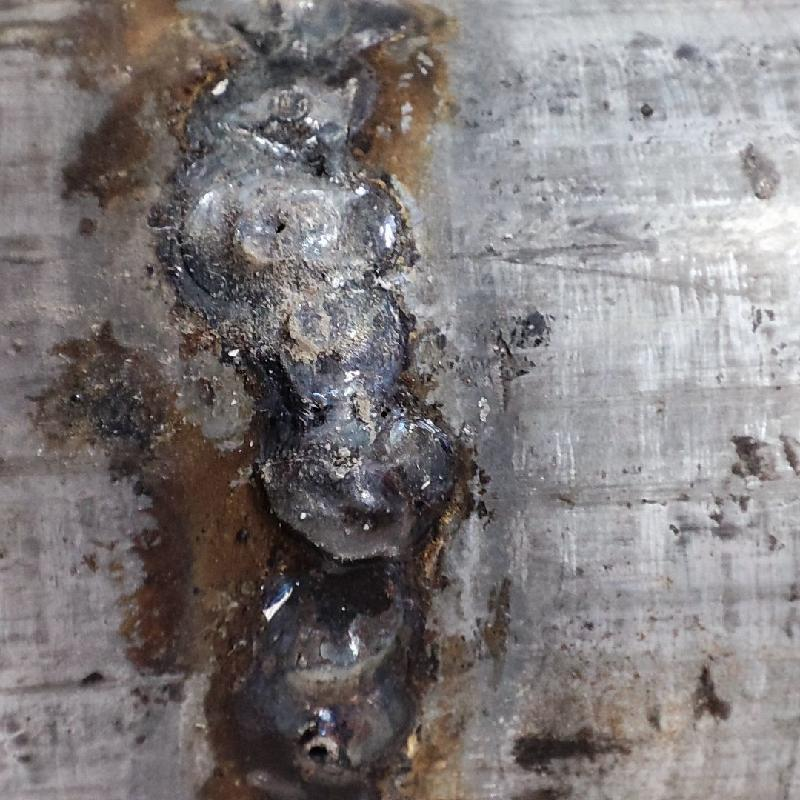Not_fully_soldered: (187, 3, 406, 416)
Weld: (262, 448, 432, 560)
wrong_size: (223, 420, 466, 797)
